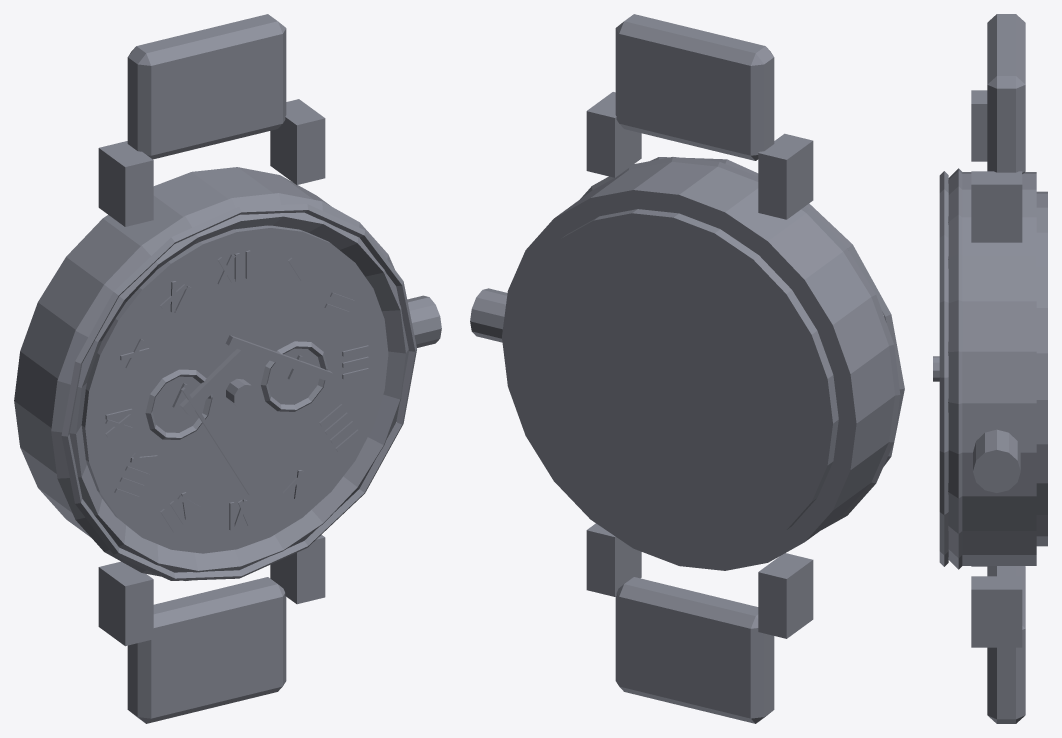
The model's file is rlj_granmaestro.fbx.
The picture shows the model from 3 angles, left to right: view 1: azimuth 30°, elevation 25°; view 2: azimuth 150°, elevation 25°; view 3: azimuth 270°, elevation 25°; orthographic projection. The views are drawn at different scales.
Parts seen in each view (by area): view 1: Esfera__esmalte_blanco, Caja__cuero_correa, Caja__metal_laton, Caja__metal_oro_cepillado, Caja__metal_oro_pulido, Esfera__metal_oro_pulido, Manecillas__metal_oro_pulido, Esfera__esmalte_azul; view 2: Caja__metal_laton, Caja__cuero_correa, Caja__metal_oro_cepillado, Caja__metal_oro_pulido; view 3: Caja__metal_laton, Caja__cuero_correa, Caja__metal_oro_cepillado, Caja__metal_oro_pulido.
Boxes of the visible parts, box(x1,y1,x2,y2) form: Esfera__esmalte_blanco: box(81, 225, 388, 553); Caja__cuero_correa: box(127, 14, 286, 723); Caja__metal_laton: box(14, 99, 441, 646); Caja__metal_oro_cepillado: box(51, 193, 408, 580); Caja__metal_oro_pulido: box(61, 204, 416, 580); Esfera__metal_oro_pulido: box(105, 250, 368, 532); Manecillas__metal_oro_pulido: box(180, 335, 333, 415); Esfera__esmalte_azul: box(145, 341, 328, 439); Caja__metal_laton: box(470, 92, 894, 638); Caja__cuero_correa: box(615, 14, 774, 723); Caja__metal_oro_cepillado: box(580, 157, 900, 529); Caja__metal_oro_pulido: box(650, 157, 904, 466); Caja__metal_laton: box(962, 90, 1047, 647); Caja__cuero_correa: box(987, 14, 1025, 723); Caja__metal_oro_cepillado: box(948, 168, 962, 569); Caja__metal_oro_pulido: box(939, 171, 948, 566).
Size of the model in its own units: 139 by 224 by 36.
